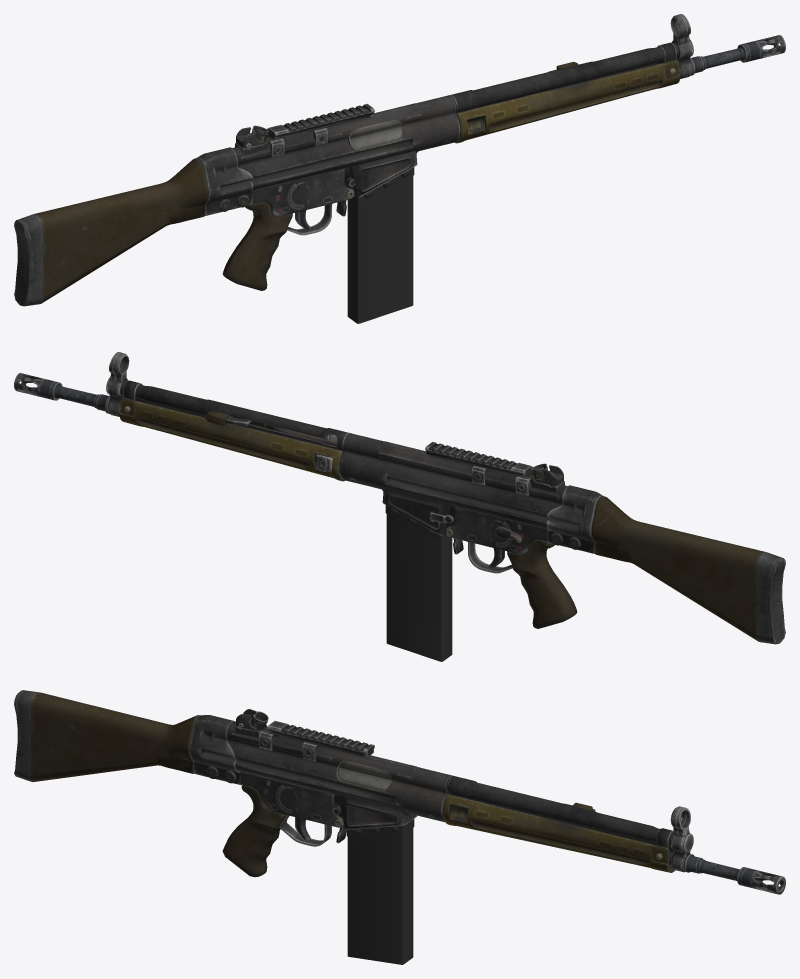
3 renders of one model, top to bottom at view 1: azimuth 30°, elevation 25°; view 2: azimuth 150°, elevation 25°; view 3: azimuth 330°, elevation 25°, orthographic.
Visible parts, largest first — view 1: SKM_3P_G3A3.001_0, SKM_3P_G3A3_Magazine_30.001_1; view 2: SKM_3P_G3A3.001_0, SKM_3P_G3A3_Magazine_30.001_1; view 3: SKM_3P_G3A3.001_0, SKM_3P_G3A3_Magazine_30.001_1.
Boxes of the visible parts, box(x1,y1,x2,y2) form: SKM_3P_G3A3.001_0: box(14, 14, 785, 306); SKM_3P_G3A3_Magazine_30.001_1: box(347, 167, 414, 323); SKM_3P_G3A3.001_0: box(14, 352, 785, 644); SKM_3P_G3A3_Magazine_30.001_1: box(385, 505, 452, 661); SKM_3P_G3A3.001_0: box(14, 690, 785, 894); SKM_3P_G3A3_Magazine_30.001_1: box(346, 819, 414, 964).
Size of the model in its own units: 1 by 0.2823 by 0.0459.
2 materials, 1 textured.
